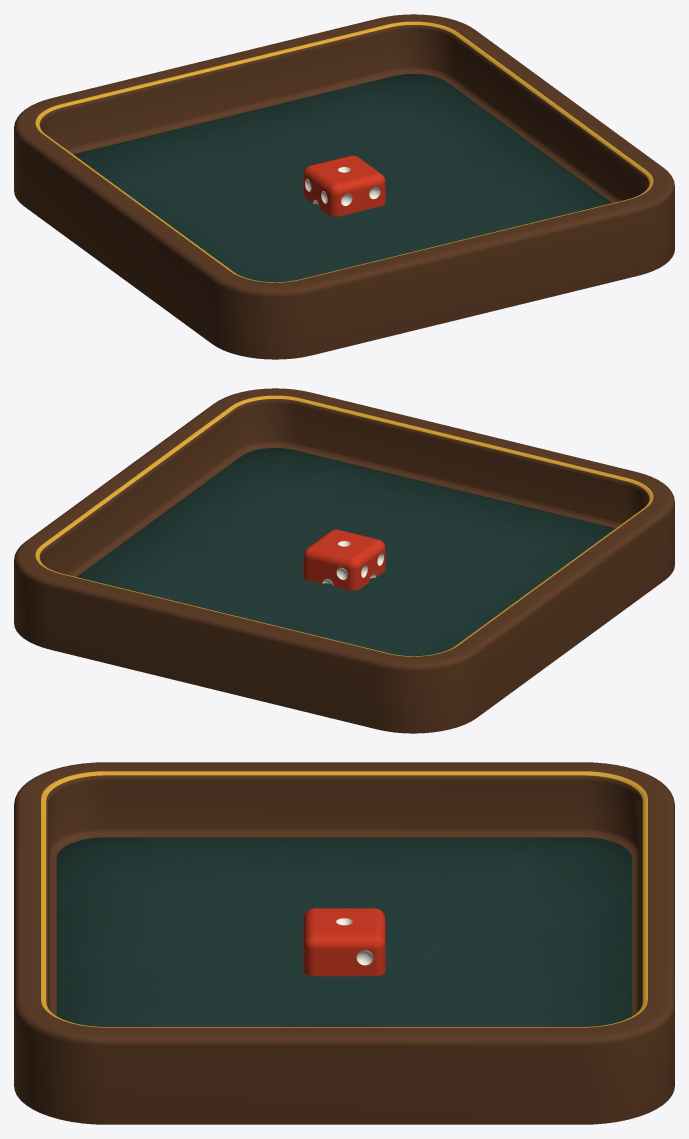
3 renders of one model, top to bottom at view 1: azimuth 30°, elevation 25°; view 2: azimuth 150°, elevation 25°; view 3: azimuth 270°, elevation 25°, orthographic. The views are drawn at different scales.
Visible parts, largest first — view 1: Tray, Felt, Die; view 2: Tray, Felt, Die; view 3: Tray, Felt, Die.
Part boxes in pixels (bbox=[...]): Tray: bbox=[14, 14, 674, 359]; Felt: bbox=[73, 74, 611, 282]; Die: bbox=[303, 155, 385, 216]; Tray: bbox=[14, 388, 674, 733]; Felt: bbox=[77, 448, 615, 656]; Die: bbox=[303, 529, 385, 590]; Tray: bbox=[14, 762, 674, 1124]; Felt: bbox=[56, 837, 632, 1026]; Die: bbox=[303, 908, 385, 976].
Size of the model in its own units: 8.04 by 1.3 by 8.04.
5 materials, 1 textured.
